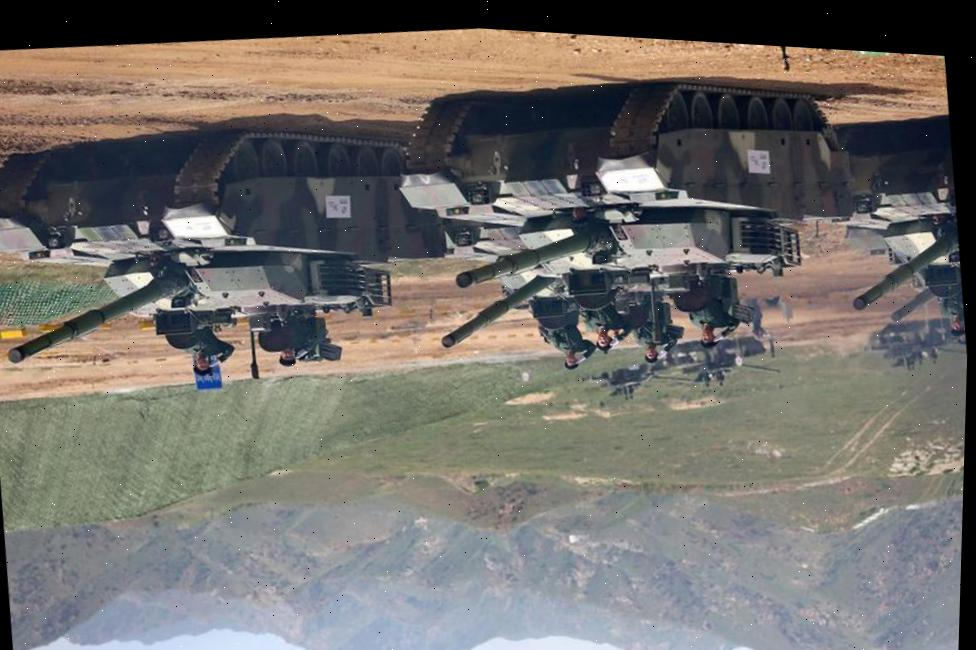tank: (385, 42, 869, 355), (0, 72, 467, 358), (817, 114, 969, 319), (656, 326, 782, 388), (858, 307, 968, 375), (576, 350, 705, 402)
